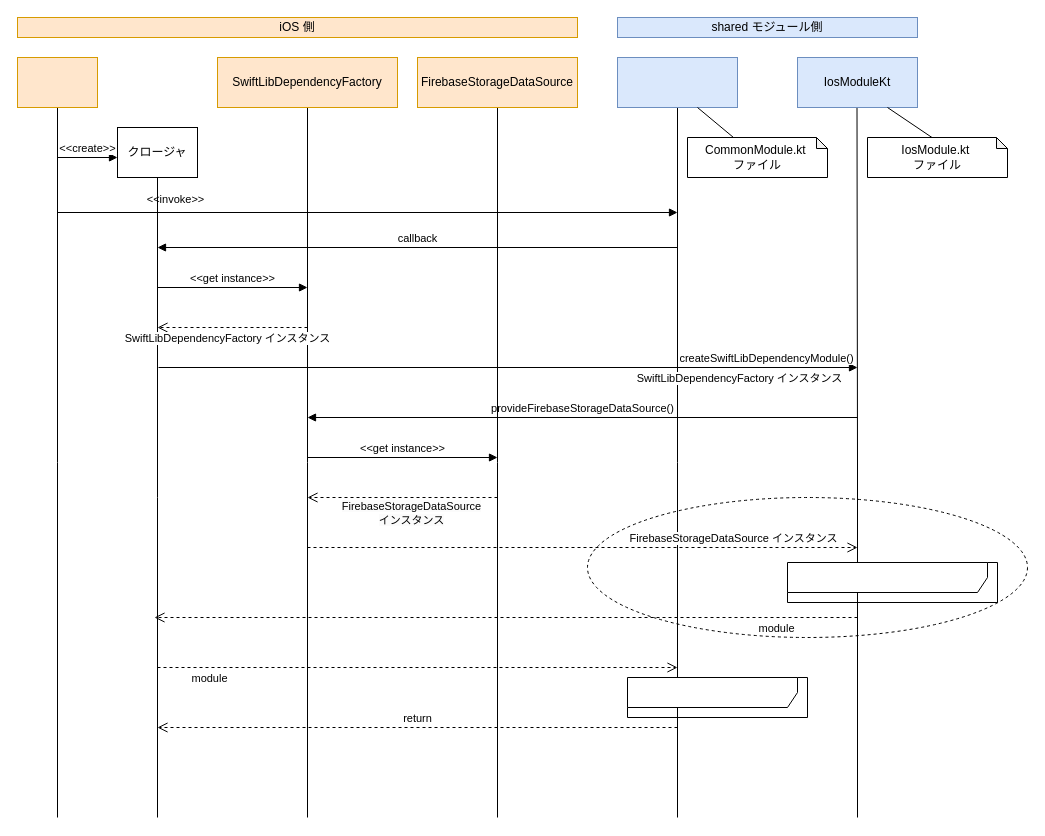
The diagram is 1045 pixels wide and 836 high, and some of its shapes have lost their labels. The box of each missing label's shape, as (x1, y1, x2, y2) in pixels:
CommonModuleKt: (616, 56, 738, 108)
FirebaseStorageDataSource インスタンス で KoinDefinition を生成: (786, 562, 998, 602)
iOSApp: (16, 56, 98, 108)
module を登録: (626, 676, 808, 718)
